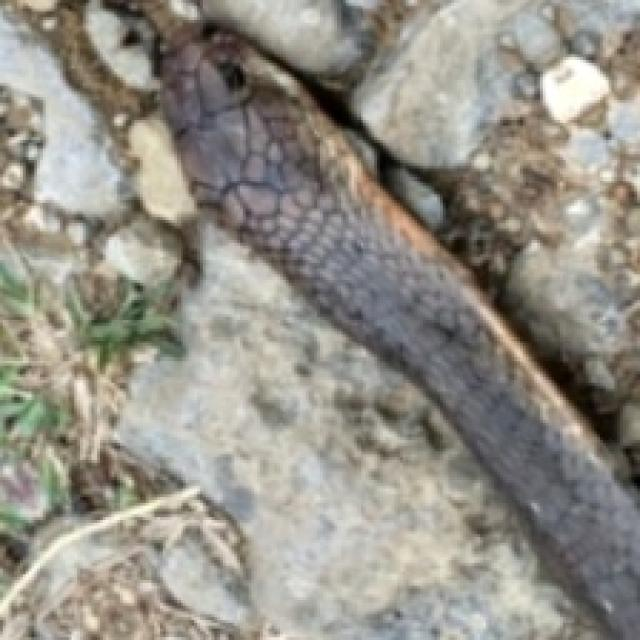king cobra: (140, 0, 637, 637)
